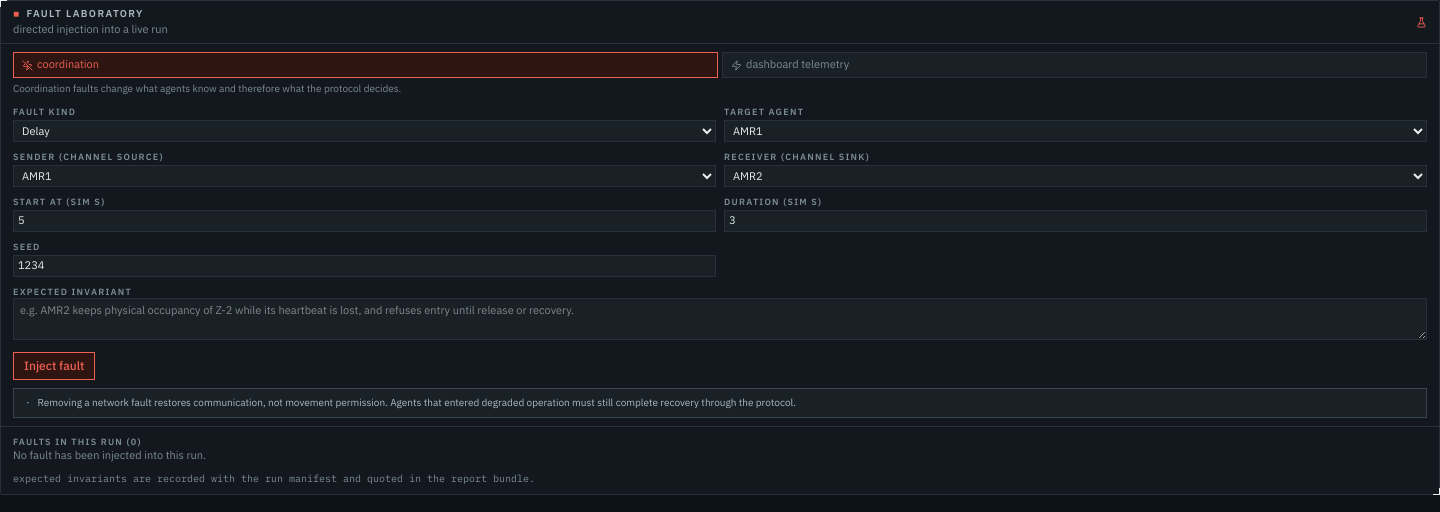
FaultLab › separates coordination-channel faults from dashboard telemetry loss
Expected: the text "Coordination faults change what agents know" is shown, [13,82,401,95]
Click the button "dashboard telemetry" at (798, 64), box [722,52,1427,78]
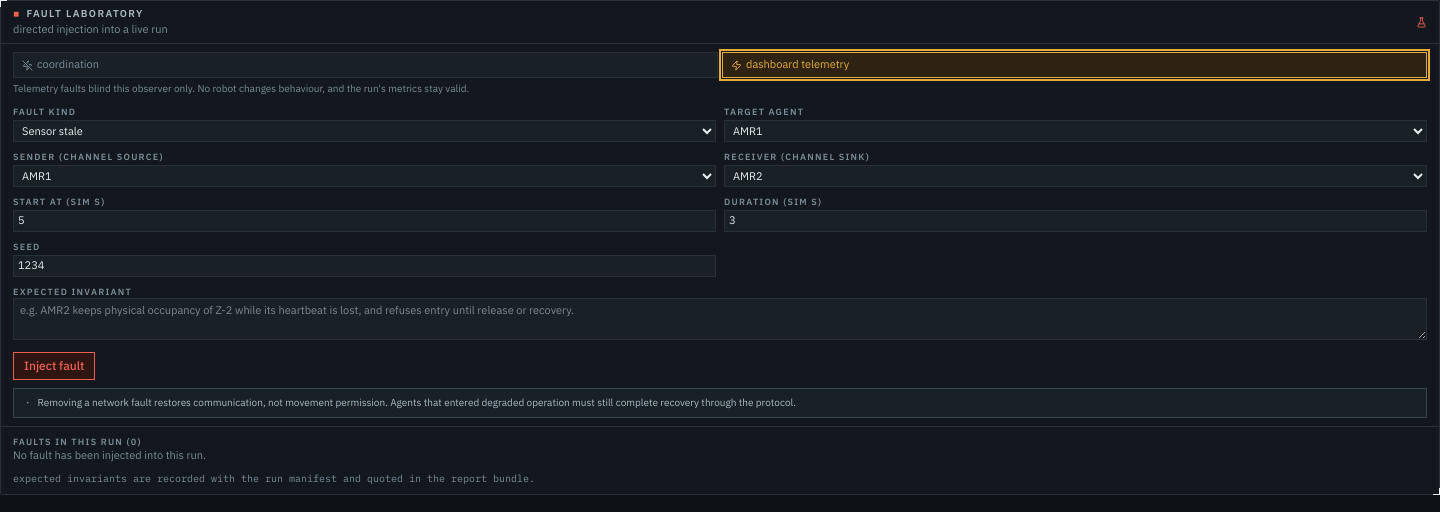
Expected: the text "Telemetry faults blind this observer only" is shown, [13,82,469,95]
